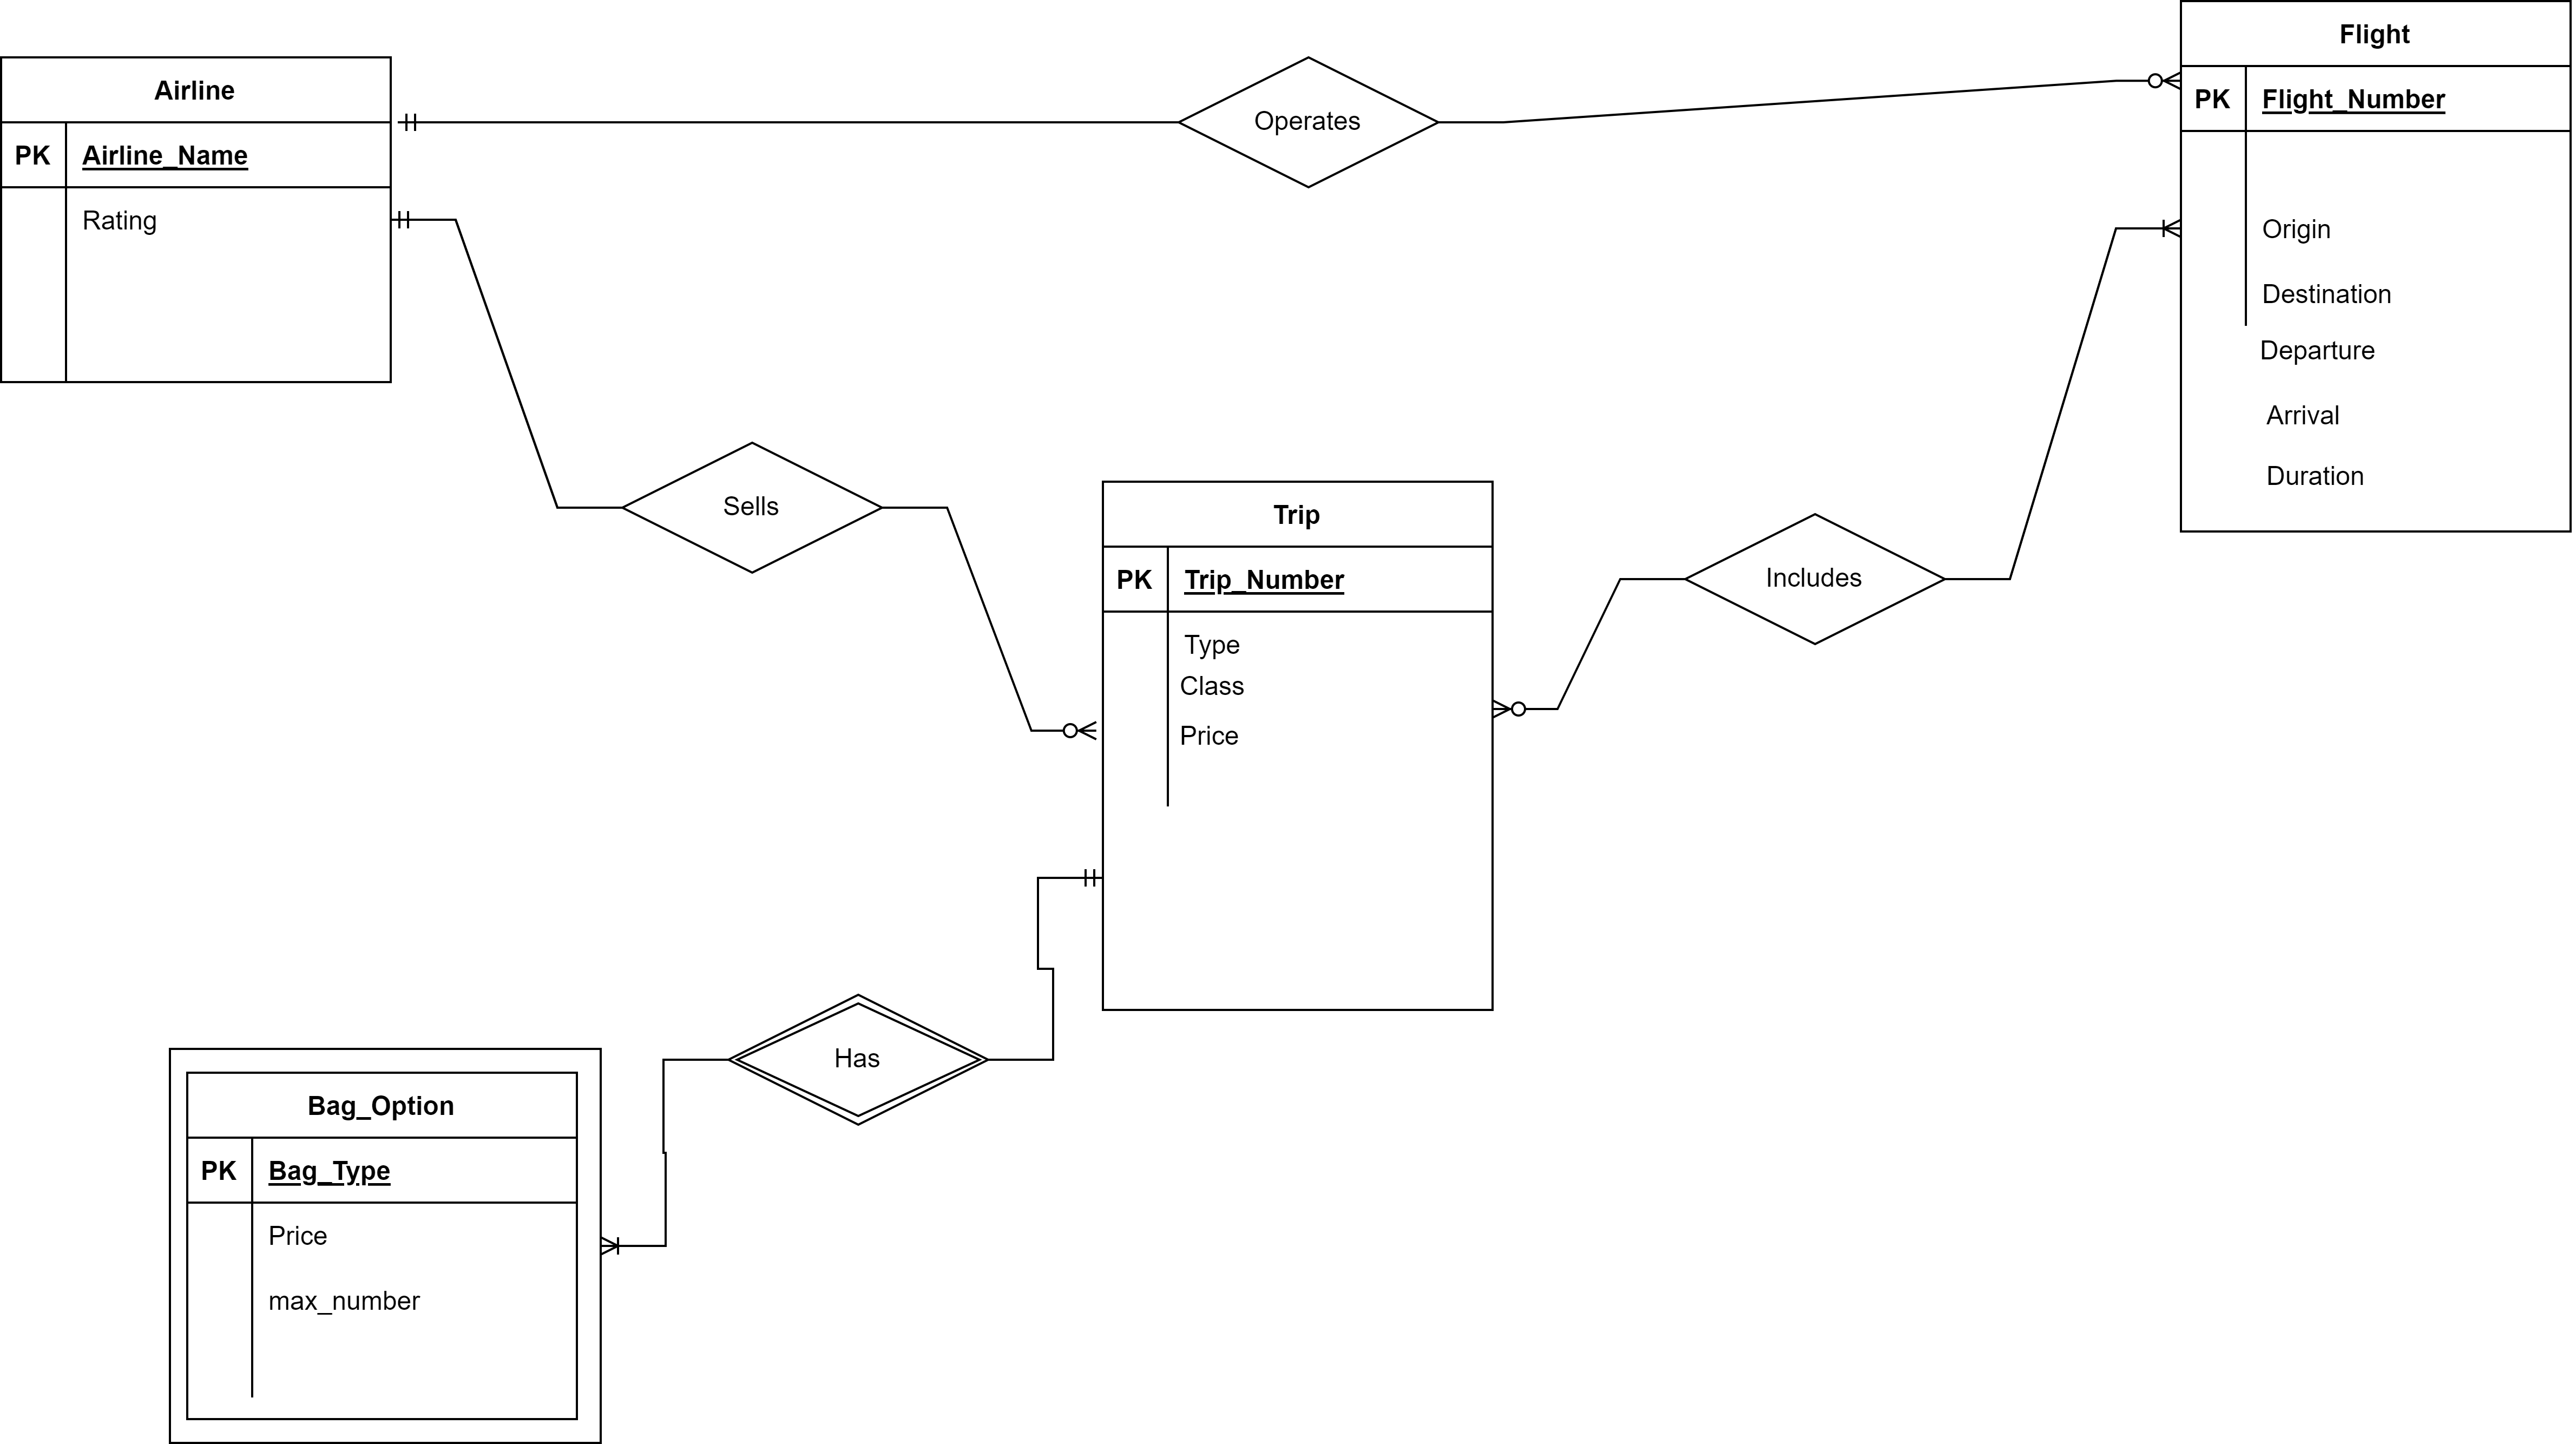entity: (2180, 4, 2576, 533), (1100, 481, 1497, 1007), (4, 55, 387, 382)
ident_rel: (734, 995, 991, 1125)
many: (1028, 718, 1104, 745), (2114, 218, 2183, 242), (2125, 69, 2183, 97), (602, 1237, 663, 1258), (1495, 697, 1557, 717)
one: (1039, 865, 1100, 894), (395, 110, 460, 133), (393, 209, 456, 232)
rel: (625, 444, 878, 577), (1180, 57, 1437, 186), (1684, 515, 1941, 642)
weak_entity: (168, 1048, 603, 1444)
